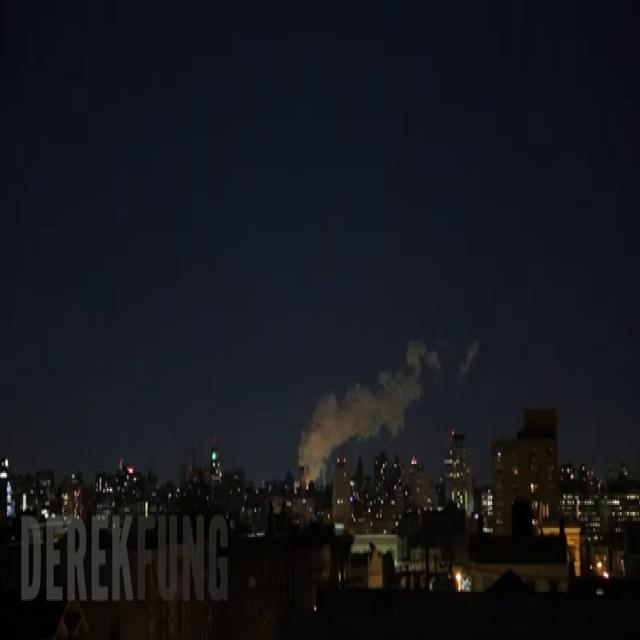smoke: (298, 341, 436, 476)
